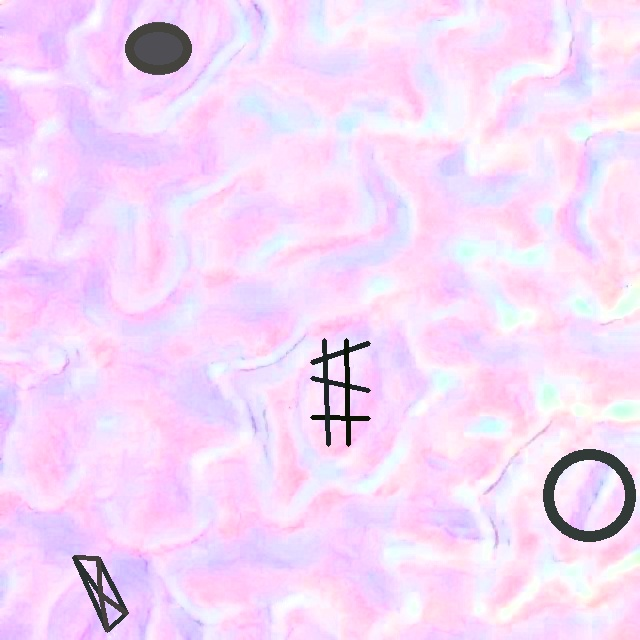close: (311, 339, 369, 446)
open: (542, 448, 635, 542), (73, 556, 128, 632), (125, 22, 191, 74)
